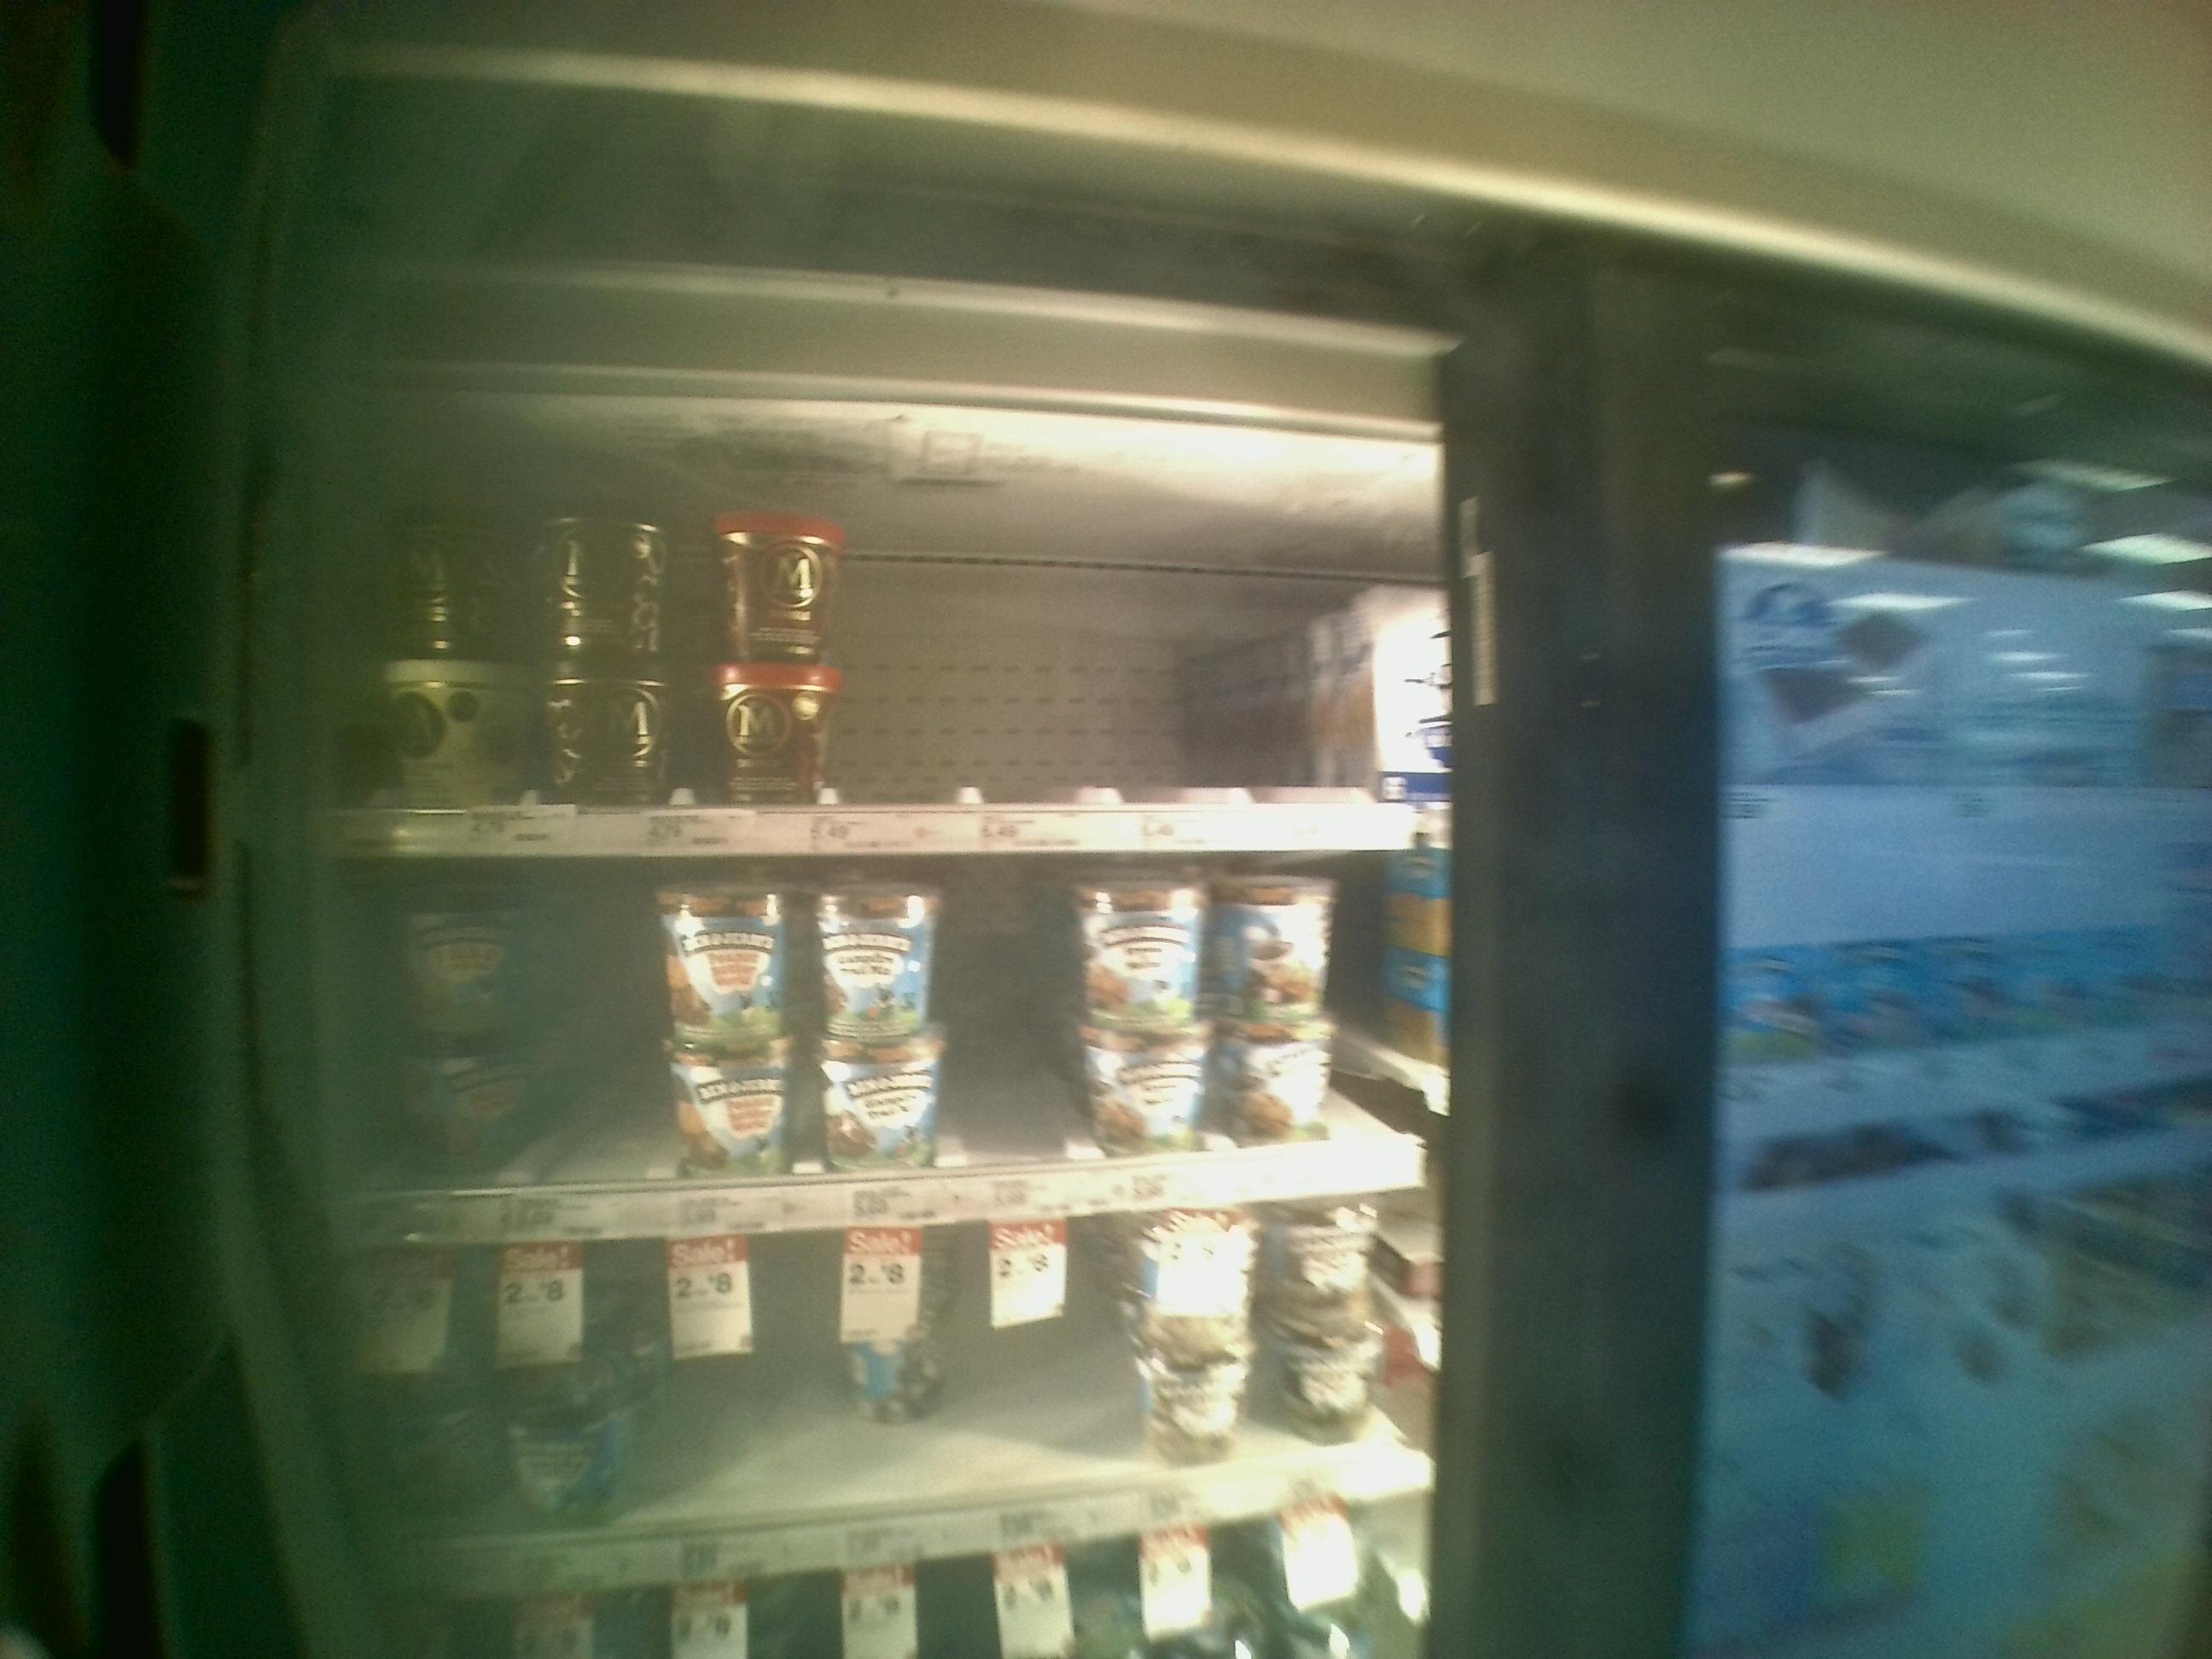shelf: (331, 430, 1460, 849), (334, 1183, 1451, 1601), (336, 842, 1425, 1251)
